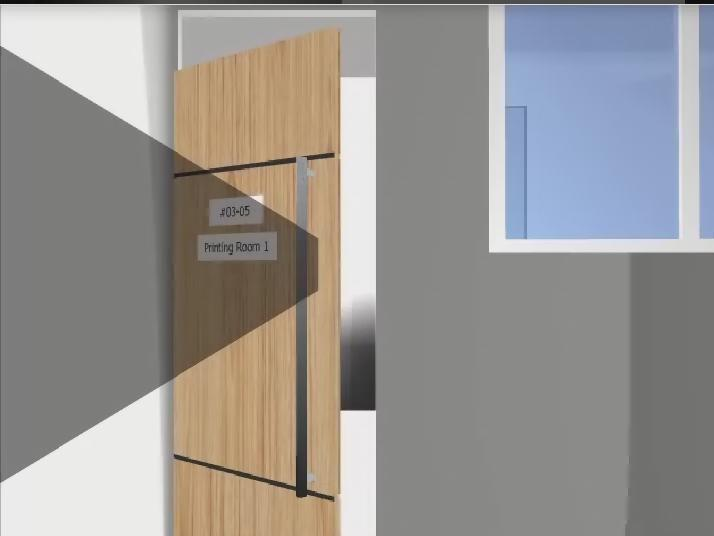door: (173, 28, 340, 536)
